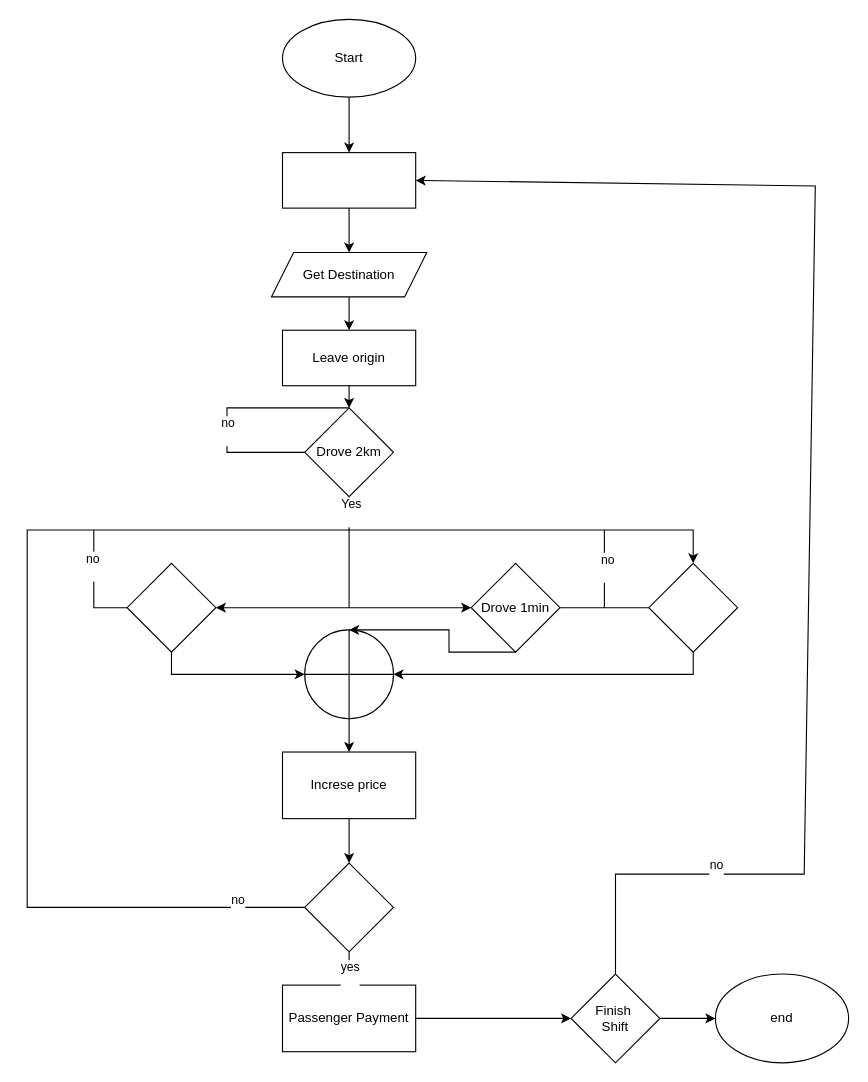
This 868x1082 diagram has some shape labels left out. The centre of each missing label's shape, as x and y in pixels:
Arrive Destination: the point at 348,907
Drove 800m: the point at 171,607
Extra Expense: the point at 693,607
New payment: the point at 348,180
